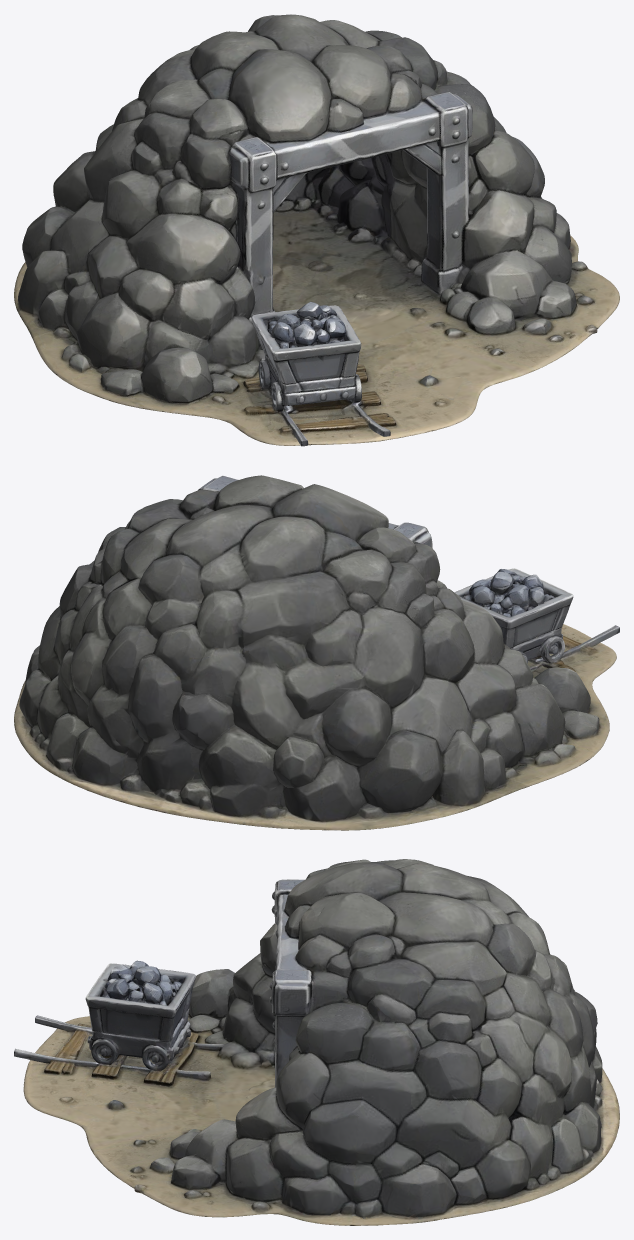
File: mine__mine-entrance.glb
3 renders of one model, top to bottom at view 1: azimuth 30°, elevation 25°; view 2: azimuth 150°, elevation 25°; view 3: azimuth 270°, elevation 25°, orthographic. The views are drawn at different scales.
Bounding box in the file's own units: 1.85 × 0.8086 × 1.9.
1 material, 1 textured.
